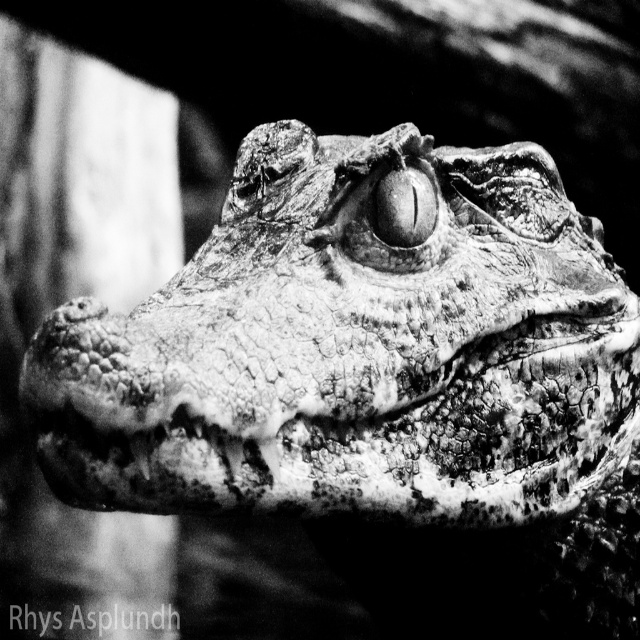Crocodile: (21, 119, 639, 639)
